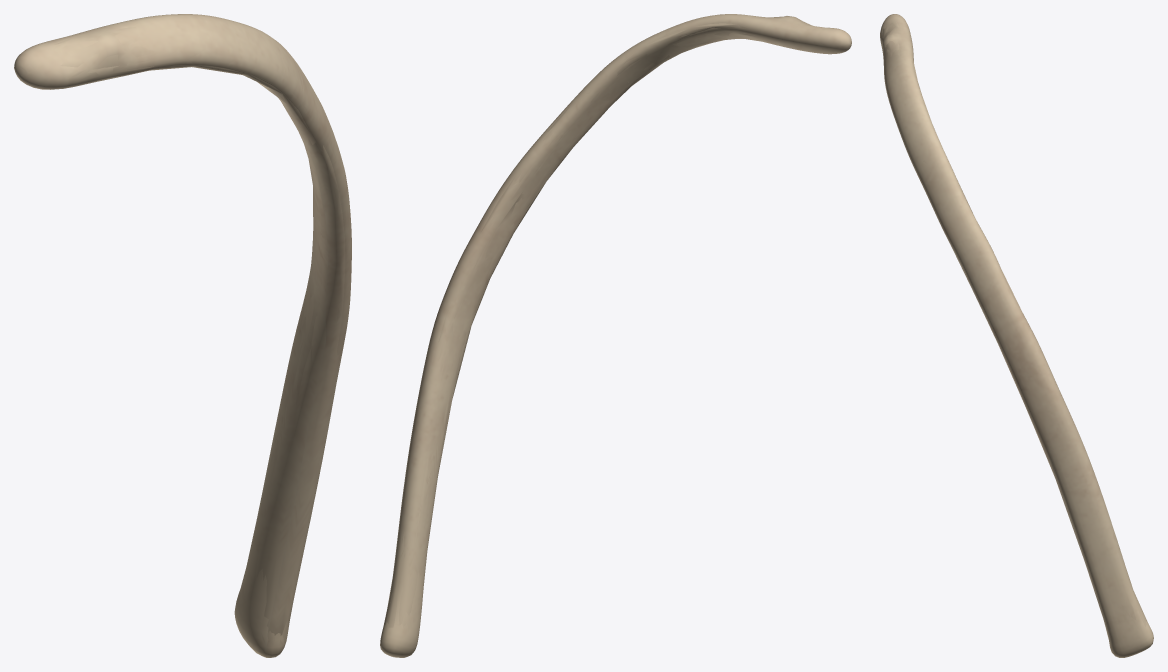
Rendered from Rib L07.fbx.
3 renders of one model, left to right at view 1: azimuth 30°, elevation 25°; view 2: azimuth 150°, elevation 25°; view 3: azimuth 270°, elevation 25°, orthographic. The views are drawn at different scales.
Visible parts, largest first — view 1: Rib L07 low, Rib L07 high, Rib L07; view 2: Rib L07 high, Rib L07, Rib L07 low; view 3: Rib L07 high, Rib L07, Rib L07 low.
Part boxes in pixels (x1,y1,x2,y2): Rib L07 low: (53,27,345,635); Rib L07 high: (15,14,351,657); Rib L07: (14,14,350,657); Rib L07 high: (381,14,851,657); Rib L07: (380,14,851,657); Rib L07 low: (384,16,819,628); Rib L07 high: (880,14,1152,657); Rib L07: (880,14,1153,657); Rib L07 low: (881,22,1148,639).
Size of the model in its own units: 14.3 by 25.14 by 12.09.
